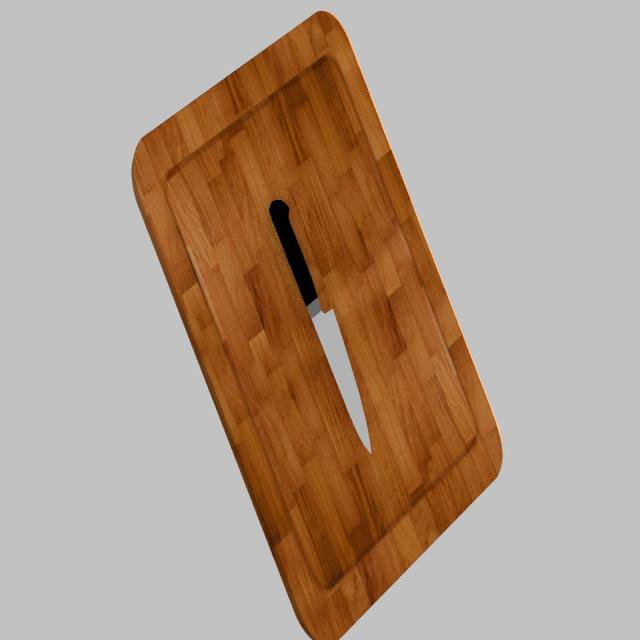knife: (269, 200, 318, 308)
